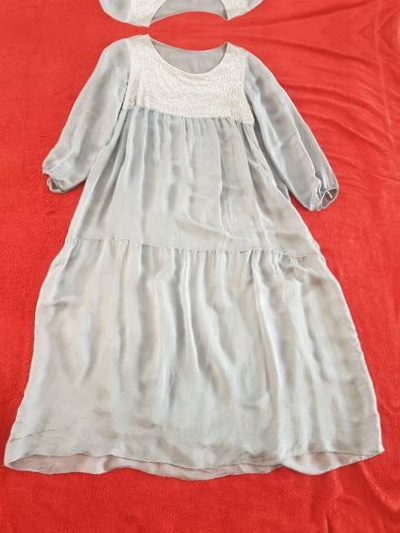Dress: (0, 37, 377, 509), (1, 0, 380, 24)
